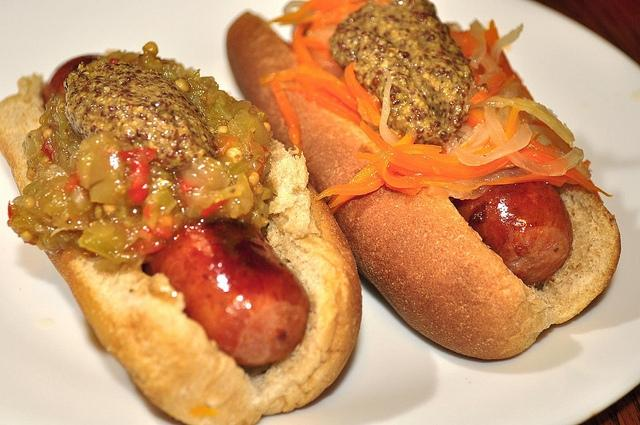carrot: (360, 121, 614, 197), (462, 108, 552, 153), (376, 144, 442, 188), (270, 70, 302, 158), (470, 108, 520, 154), (297, 31, 343, 78), (314, 170, 385, 200), (305, 88, 361, 125), (344, 63, 381, 116), (260, 66, 346, 88), (469, 74, 514, 105), (292, 23, 317, 66), (271, 1, 323, 21), (486, 174, 568, 186), (301, 3, 349, 23), (450, 30, 477, 58), (302, 23, 338, 39), (408, 154, 462, 164), (385, 182, 423, 196), (485, 20, 499, 56)
